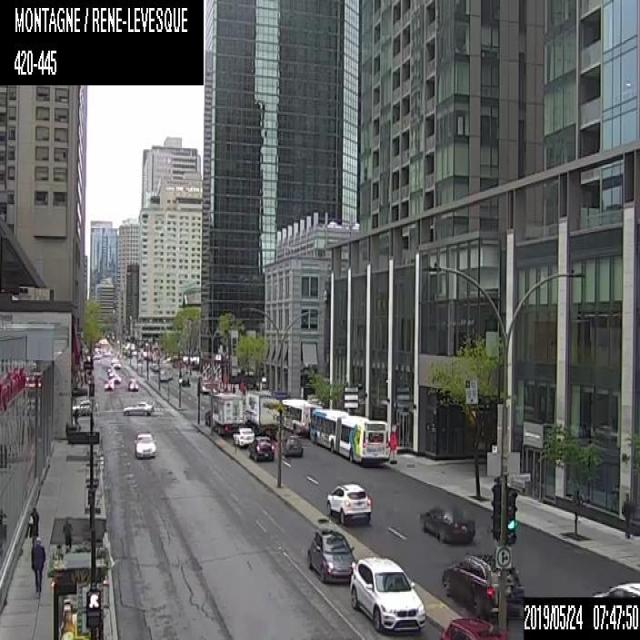bus: (309, 407, 391, 464), (280, 397, 323, 437)
pedestrian: (29, 534, 44, 599), (621, 491, 634, 537), (28, 506, 38, 547), (61, 515, 72, 551)
vehicle: (349, 555, 428, 636), (439, 553, 525, 616), (306, 528, 357, 583), (419, 502, 476, 542), (324, 478, 372, 522), (243, 389, 280, 435), (440, 616, 510, 638), (210, 391, 243, 434), (589, 577, 639, 596), (248, 435, 273, 461), (122, 396, 154, 416), (134, 431, 158, 457), (71, 395, 95, 416), (232, 425, 254, 446), (280, 436, 302, 456), (126, 374, 138, 390), (204, 408, 211, 428), (104, 377, 113, 389), (111, 374, 121, 382), (112, 360, 122, 368), (107, 368, 115, 377), (106, 363, 112, 372)
